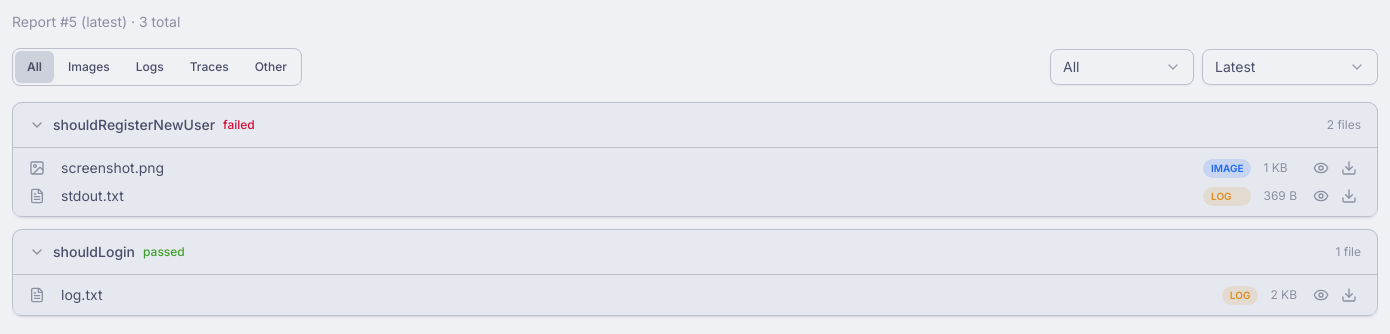
AttachmentsTab › filters by Images and updates the subtitle count
expect the button "screenshot.png" is shown: met, box x1=61 y1=158 x2=1191 y2=178
Click the button "Images": click(89, 67) x1=56 y1=51 x2=122 y2=83
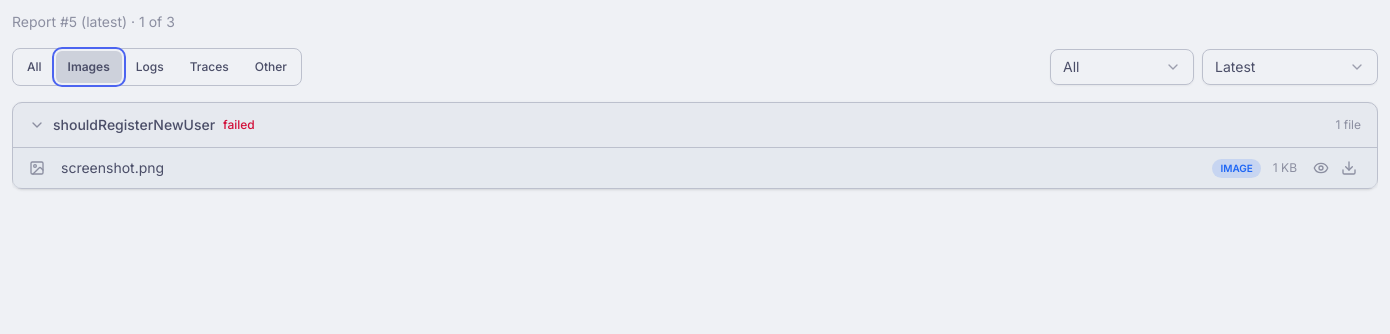
expect the button "stdout.txt" is gone: met
expect the button "log.txt" is gone: met
expect the text "Report #5 (latest) · 1 of 3" is shown: met, box x1=12 y1=13 x2=175 y2=30
